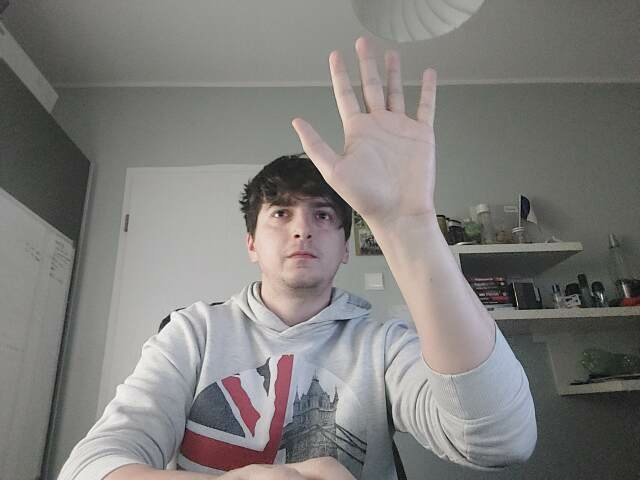hello: (291, 34, 440, 214)
